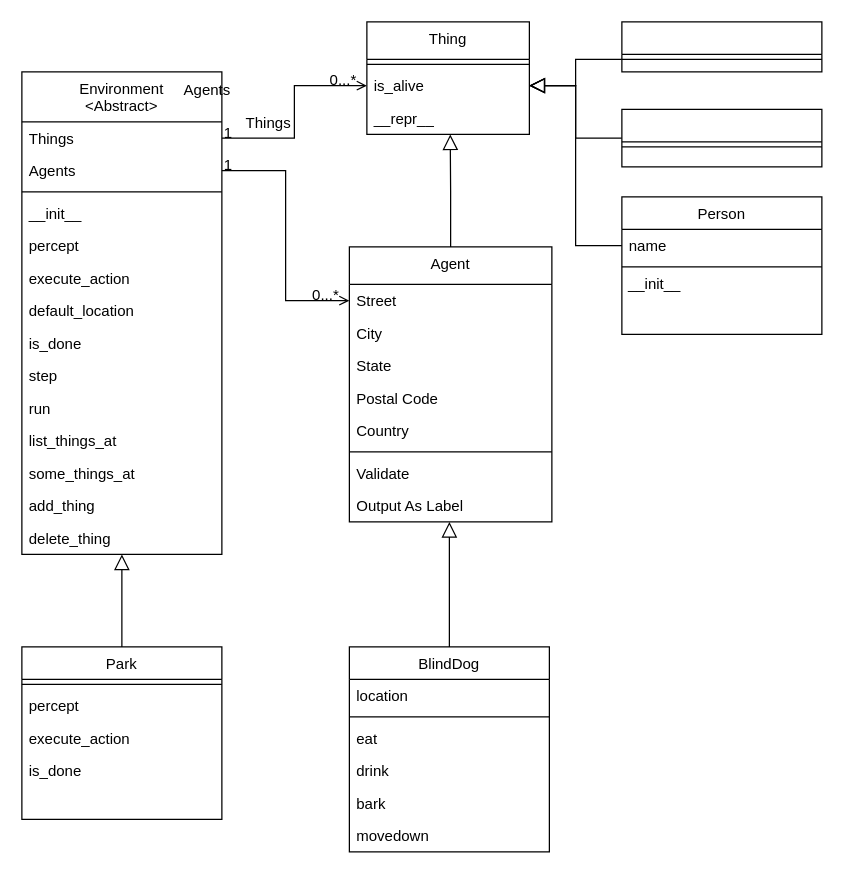
Image size: 844x878. Some labels were removed from this diagram. The shapes that lost their labels are listed below. From the top down, each one's centre as x and y in pixels, then its label:
At point (721, 46): "Food".
At point (721, 137): "Water".
